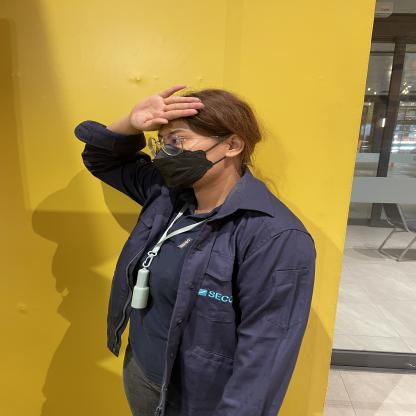Sick: (76, 70, 219, 144)
